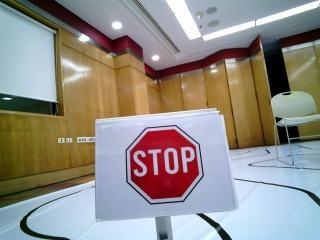stop: (94, 124, 220, 206)
